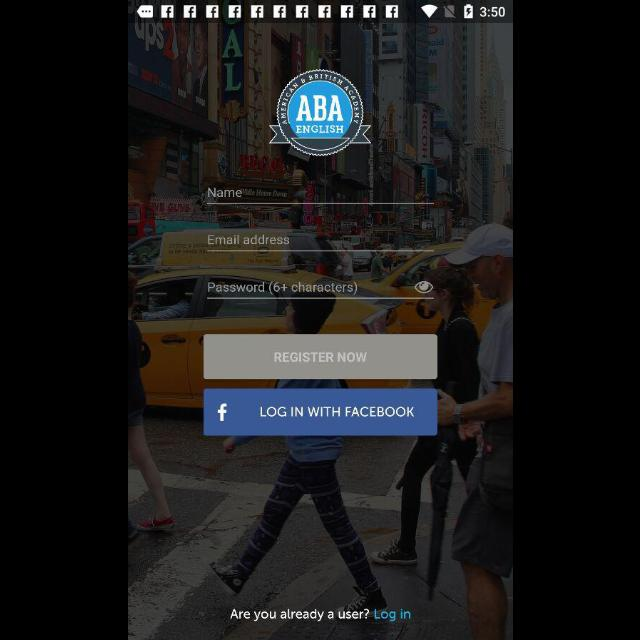backgroundimage: (128, 24, 512, 640)
icon: (413, 282, 432, 294)
image: (268, 69, 372, 157)
input: (206, 281, 434, 299), (206, 234, 434, 252), (206, 188, 434, 205)
text: (230, 608, 410, 622), (208, 281, 356, 295), (207, 234, 289, 246), (207, 188, 241, 198)
textbutton: (203, 388, 437, 436), (203, 334, 437, 380)
uppertaskbar: (128, 1, 512, 23)
